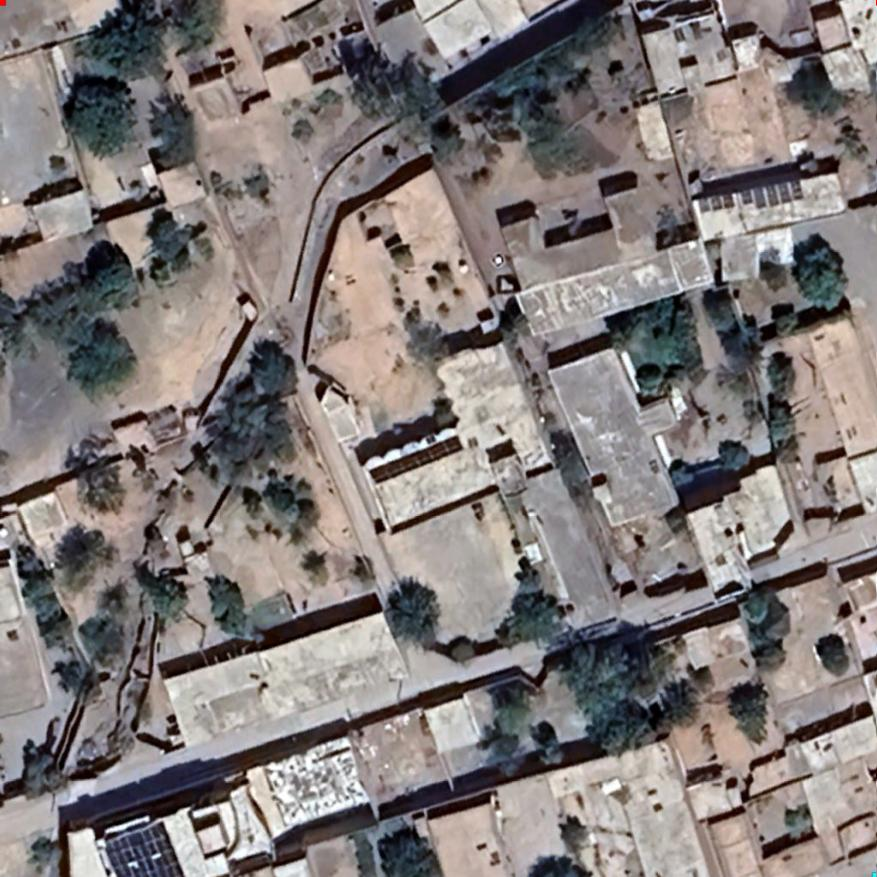Solarpanel: (90, 815, 190, 876), (365, 432, 466, 488), (736, 175, 809, 216), (693, 182, 737, 218)
